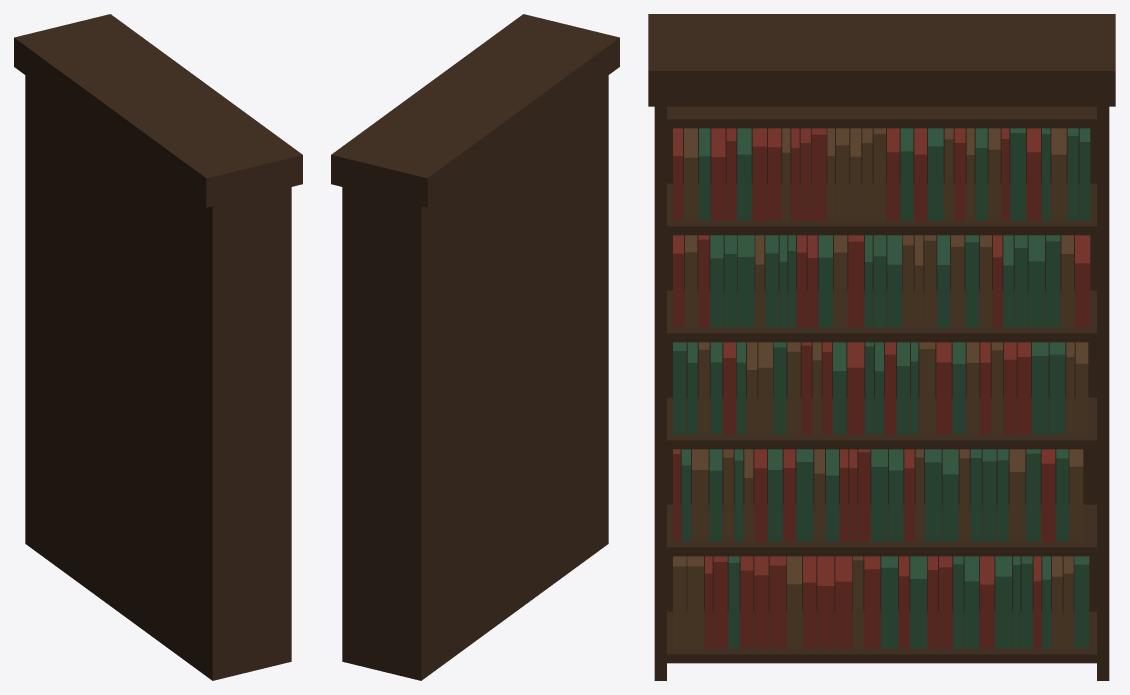
Rendered from SM_Mob_Kitaplik.fbx.
The picture shows the model from 3 angles, left to right: view 1: azimuth 30°, elevation 25°; view 2: azimuth 150°, elevation 25°; view 3: azimuth 270°, elevation 25°; orthographic projection. The views are drawn at different scales.
Visible parts, largest first — view 1: Mob_Kitaplik; view 2: Mob_Kitaplik; view 3: Mob_Kitaplik.
Part boxes in pixels (left/top/right/bottom): Mob_Kitaplik: left=14, top=14, right=302, bottom=680; Mob_Kitaplik: left=331, top=14, right=619, bottom=680; Mob_Kitaplik: left=648, top=14, right=1115, bottom=680.
Bounding box in the file's own units: 55 × 276 × 190.
